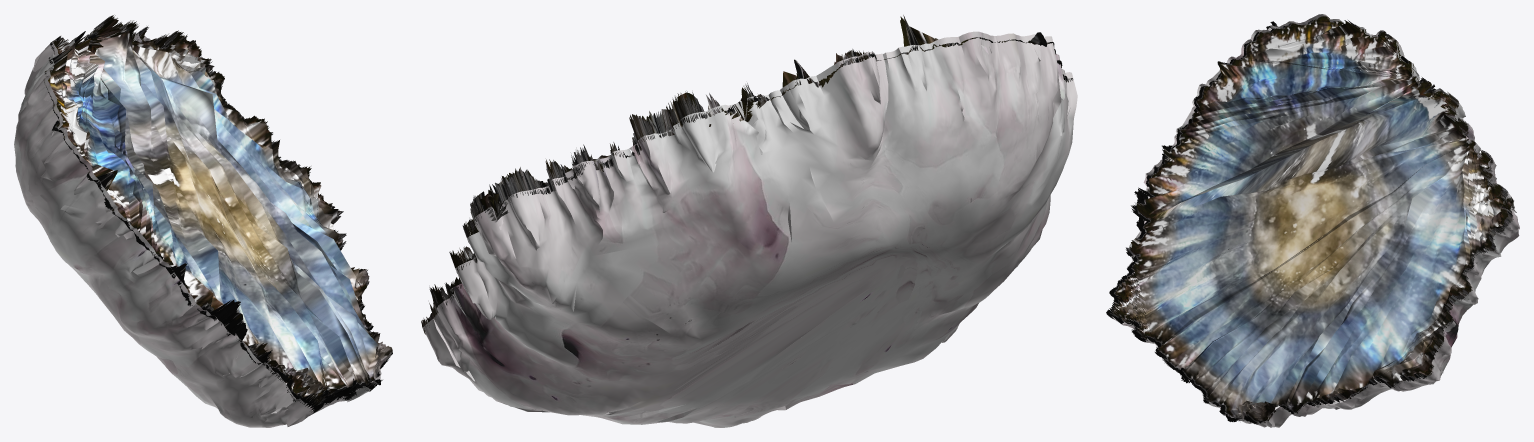
The model's file is ocean_shell_02.glb.
3 renders of one model, left to right at view 1: azimuth 30°, elevation 25°; view 2: azimuth 150°, elevation 25°; view 3: azimuth 270°, elevation 25°, orthographic. The views are drawn at different scales.
Parts seen in each view (by area): view 1: 笠螺-材质, 笠螺-材质.1; view 2: 笠螺-材质.1, 笠螺-材质; view 3: 笠螺-材质, 笠螺-材质.1.
Part boxes in pixels (<box>): 笠螺-材质: <box>43,15,392,413</box>; 笠螺-材质.1: <box>14,26,381,427</box>; 笠螺-材质.1: <box>423,31,1077,427</box>; 笠螺-材质: <box>421,15,1072,334</box>; 笠螺-材质: <box>1106,16,1515,424</box>; 笠螺-材质.1: <box>1112,14,1519,427</box>.
Size of the model in its own units: 0.5099 by 0.4764 by 0.5628.
Materials: 2 (2 with a texture image).
